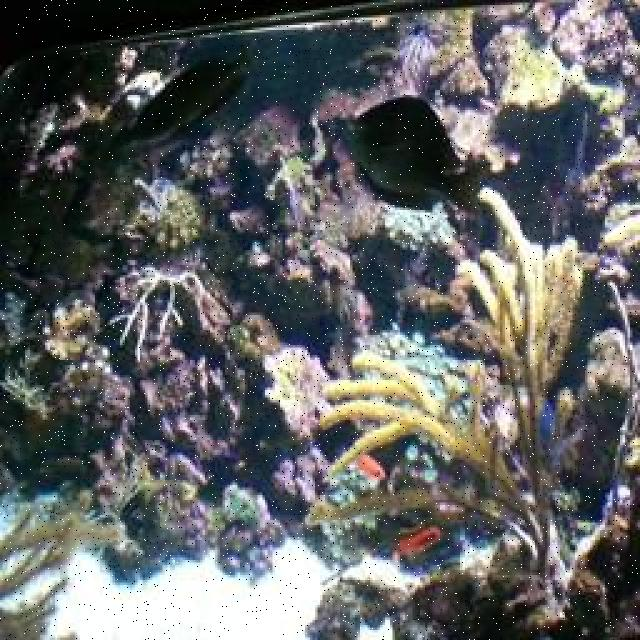fish: (331, 94, 491, 214), (393, 526, 443, 564), (356, 454, 386, 479)
reefs: (308, 188, 585, 568), (1, 492, 127, 597), (263, 347, 333, 442), (0, 579, 68, 638)
